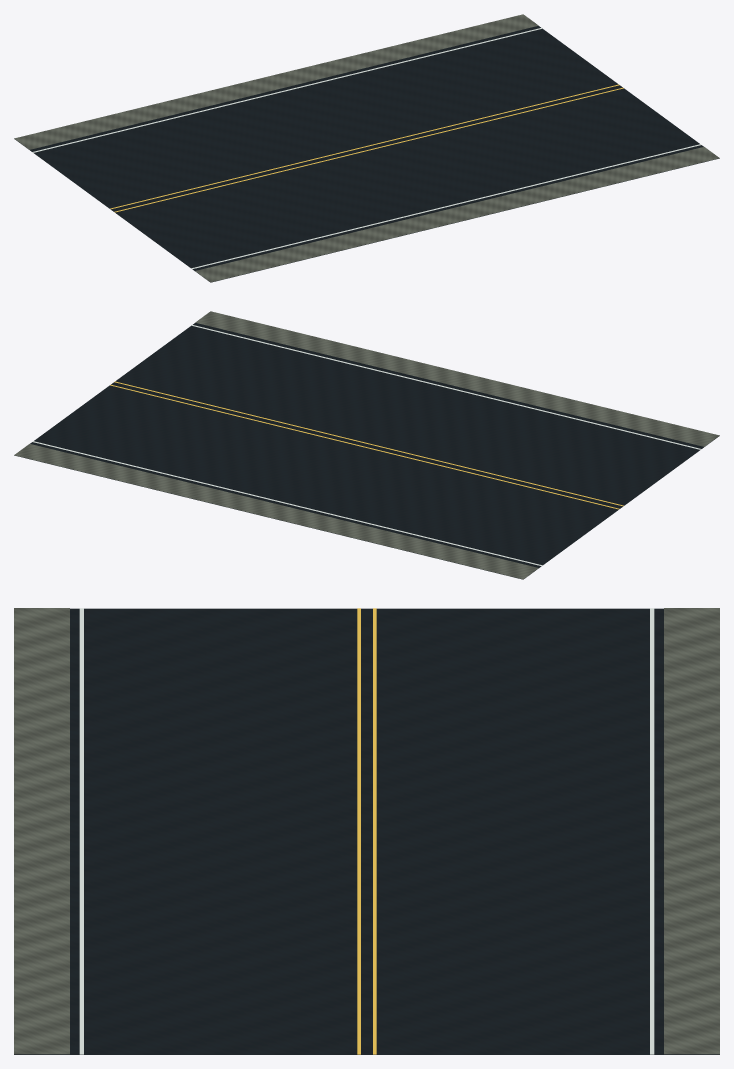
Rendered from road_highway_regional_16m_LOD0.glb.
3 views of the same model, one above another, from view 1: azimuth 30°, elevation 25°; view 2: azimuth 150°, elevation 25°; view 3: azimuth 270°, elevation 25° (orthographic). The views are drawn at different scales.
Parts seen in each view (by area): view 1: road_highway_regional_16m__surface, road_highway_regional_16m__shoulders, road_highway_regional_16m__markings; view 2: road_highway_regional_16m__surface, road_highway_regional_16m__shoulders, road_highway_regional_16m__markings; view 3: road_highway_regional_16m__surface, road_highway_regional_16m__shoulders, road_highway_regional_16m__markings.
Boxes of the visible parts, x1,y1,x2,y2 form: road_highway_regional_16m__surface: [14, 26, 719, 282]; road_highway_regional_16m__shoulders: [14, 14, 719, 282]; road_highway_regional_16m__markings: [32, 28, 701, 268]; road_highway_regional_16m__surface: [14, 323, 719, 579]; road_highway_regional_16m__shoulders: [14, 311, 719, 579]; road_highway_regional_16m__markings: [32, 325, 701, 565]; road_highway_regional_16m__surface: [14, 608, 719, 1054]; road_highway_regional_16m__shoulders: [14, 608, 719, 1054]; road_highway_regional_16m__markings: [79, 608, 654, 1054].
Size of the model in its own units: 16 by 0.009 by 10.7.
4 materials, 2 textured.
